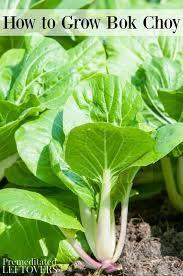Healthy-Pechay: (4, 41, 133, 253), (87, 33, 183, 200)
